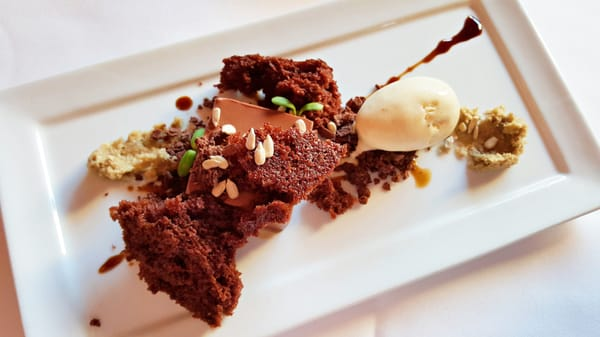sushi: (83, 53, 356, 327)
